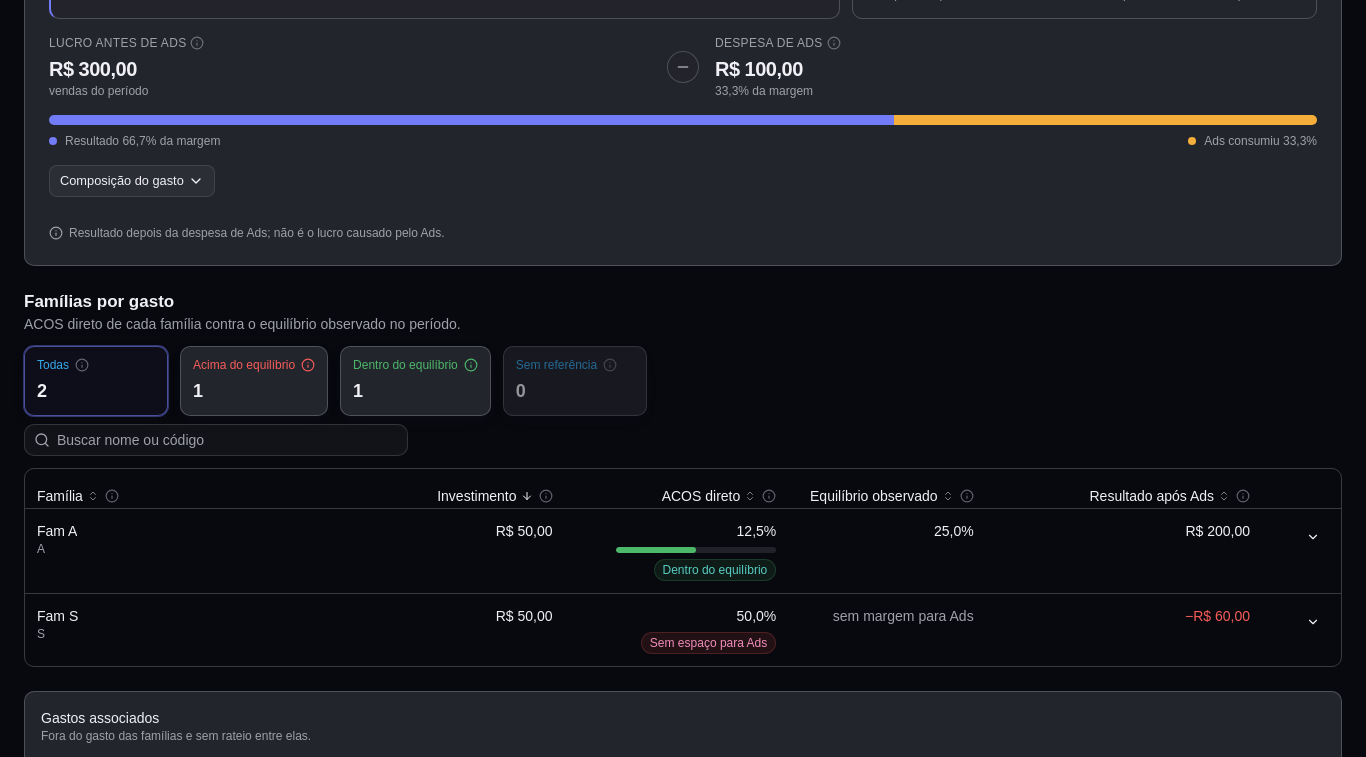
Ads › tabela de familias sem espaço › sem espaço para Ads conta e filtra como acima do equilíbrio, mantendo o selo
The image size is (1366, 757).
(page scrolled)
Click the button with aria-label "Filtrar por Acima do equilíbrio": (254, 381) 180,346 -> 328,416
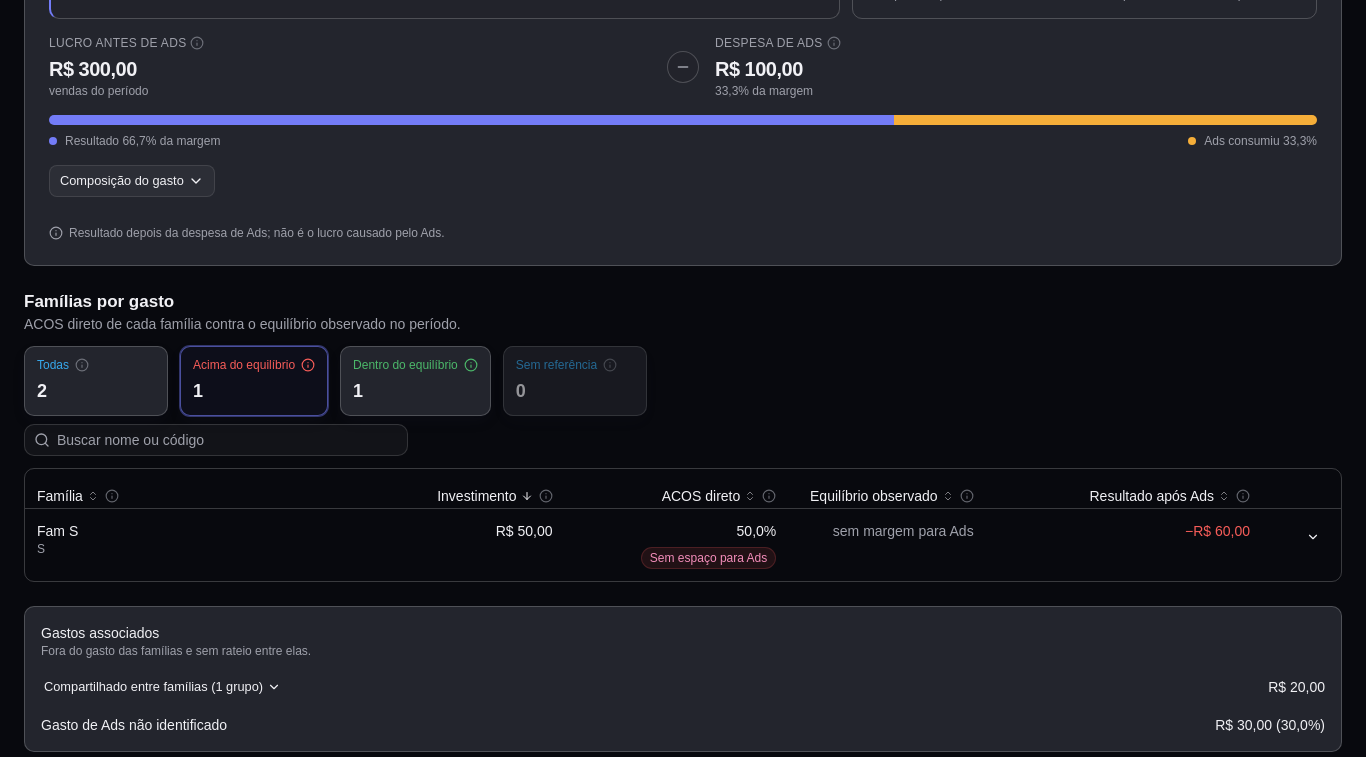
Expected: the text "Sem espaço para Ads" is shown, 641,547 -> 776,569
Expected: the link "Fam A" is gone
